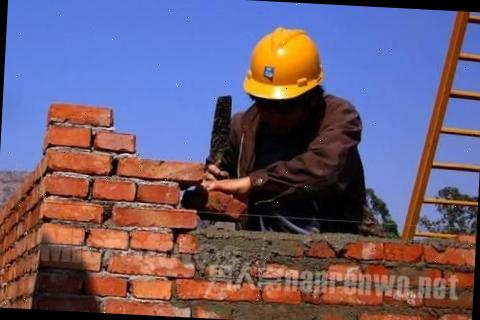helmet: (238, 23, 326, 103)
no_wear: (227, 101, 368, 222)
